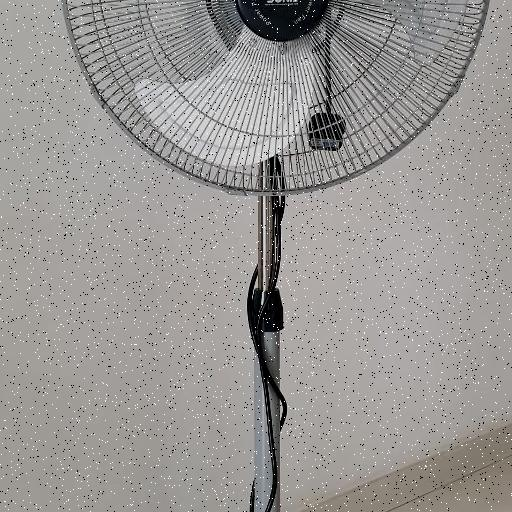Fan: (54, 0, 496, 196)
